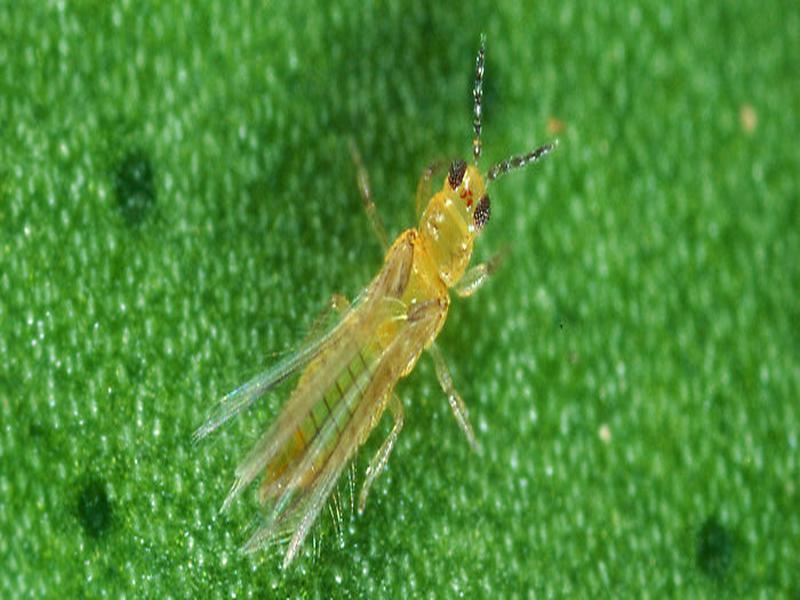Thrips: (174, 133, 499, 578)
